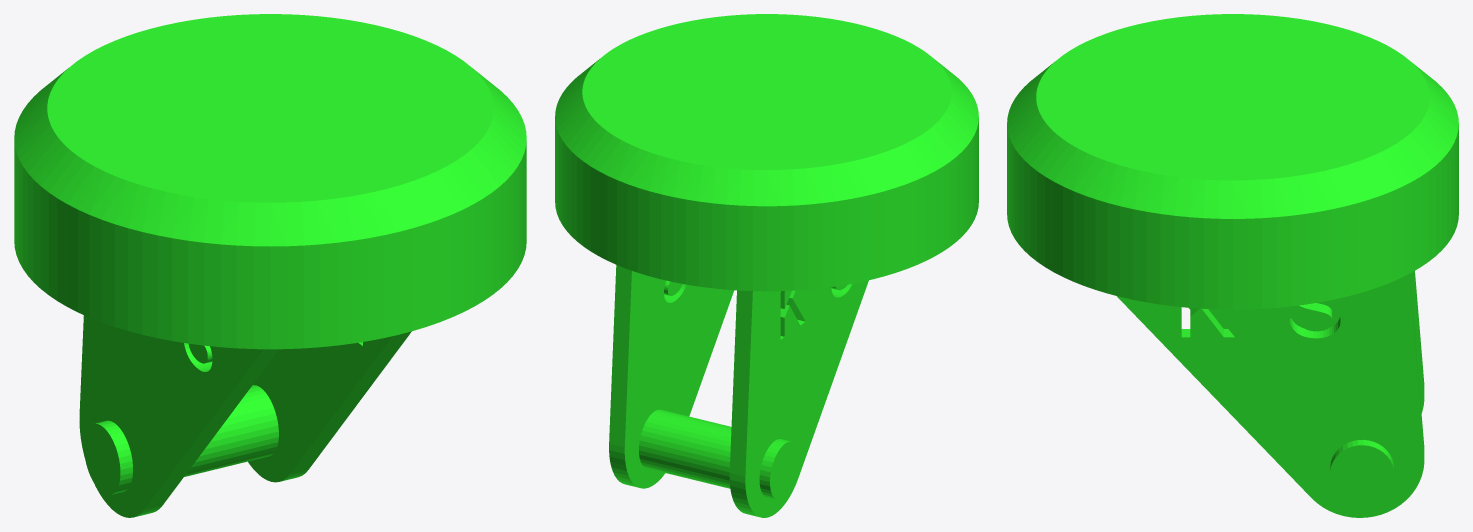
The model's file is Caster_Link.dae.
The picture shows the model from 3 angles, left to right: view 1: azimuth 30°, elevation 25°; view 2: azimuth 150°, elevation 25°; view 3: azimuth 270°, elevation 25°; orthographic projection. The views are drawn at different scales.
Parts seen in each view (by area): view 1: Caster link v10; view 2: Caster link v10; view 3: Caster link v10.
Part boxes in pixels (x1,y1,x2,y2): Caster link v10: [14, 14, 526, 517]; Caster link v10: [555, 14, 978, 517]; Caster link v10: [1007, 14, 1458, 517].
Bounding box in the file's own units: 0.07 × 0.07 × 0.0659.
